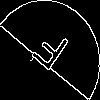F: (25, 25, 71, 80)
